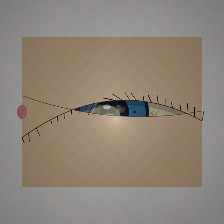corneal_ulcer: (79, 96, 130, 137)
